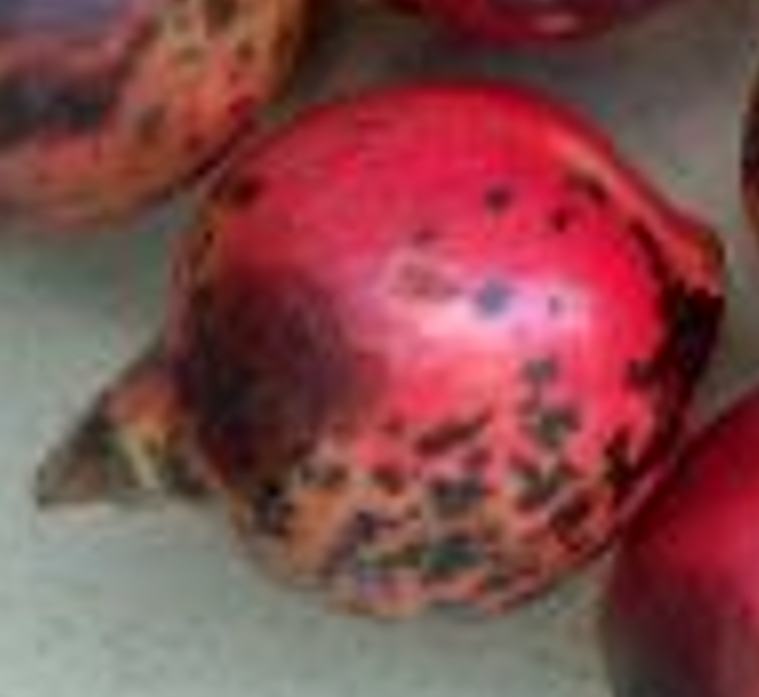pomegranate_C: (32, 77, 730, 628)
